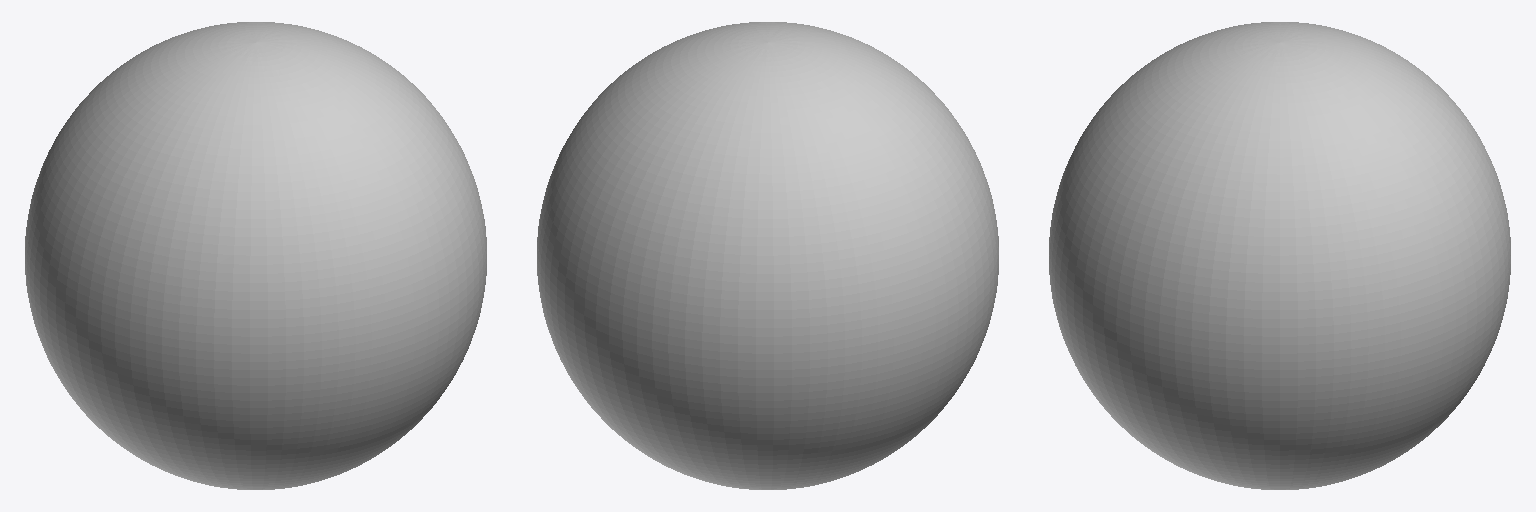
Rendered from f_lower_back.obj.
3 renders of one model, left to right at view 1: azimuth 30°, elevation 25°; view 2: azimuth 150°, elevation 25°; view 3: azimuth 270°, elevation 25°, orthographic.
Parts seen in each view (by area): view 1: pSphere1; view 2: pSphere1; view 3: pSphere1.
Boxes of the visible parts, <box> form: pSphere1: <box>25,22,486,489</box>; pSphere1: <box>537,22,998,489</box>; pSphere1: <box>1049,22,1510,489</box>.
Size of the model in its own units: 0.7784 by 0.7923 by 0.7784.